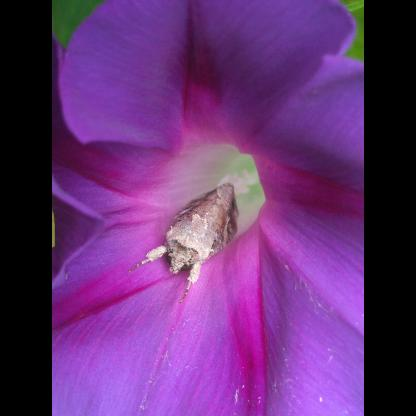Fall Armyworm Moth: (127, 180, 243, 307)
